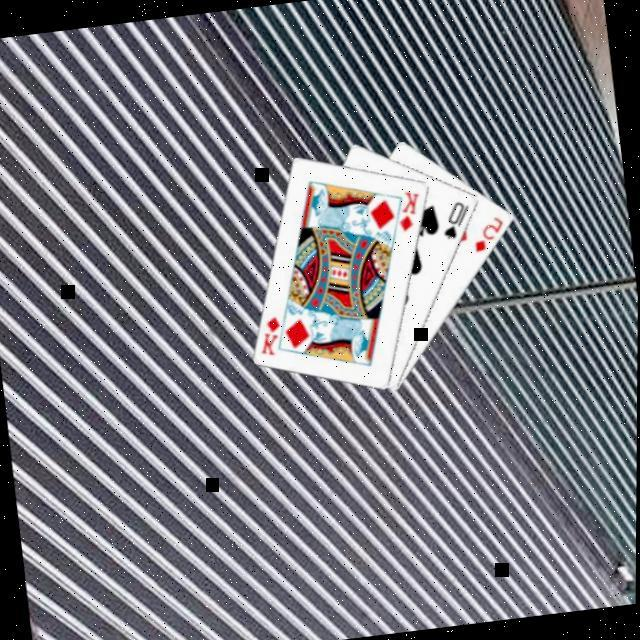10S: (439, 197, 478, 244)
5D: (471, 213, 511, 256)
KD: (394, 187, 428, 236), (255, 312, 289, 360)
